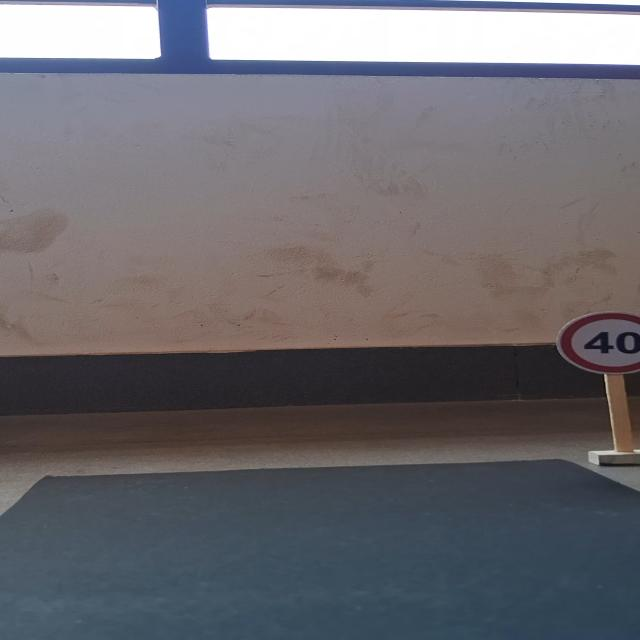Speed40: (553, 310, 640, 375)
